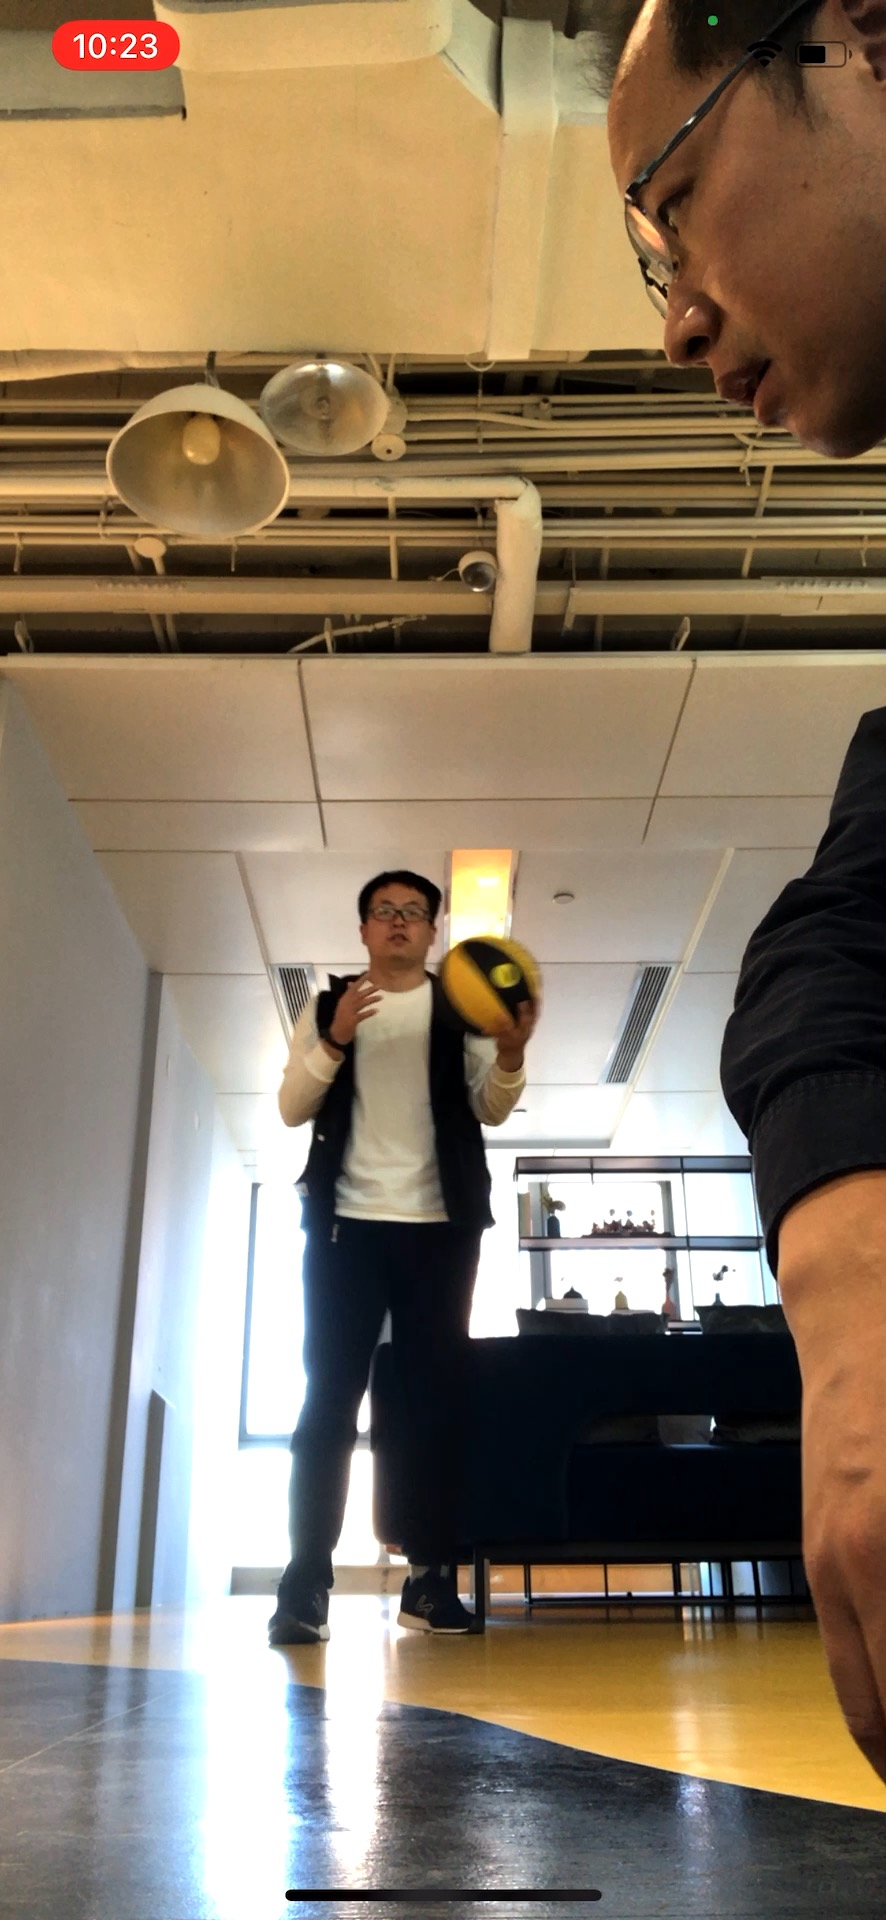ball: (437, 936, 543, 1040)
